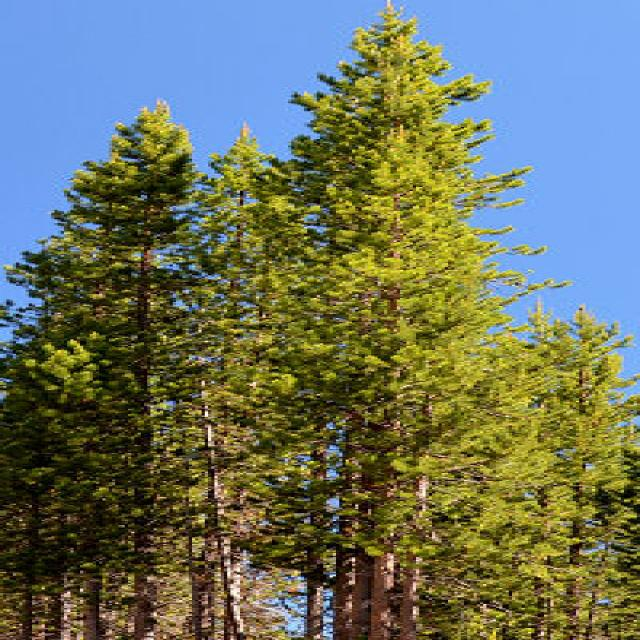Pinus contorta var: (186, 5, 546, 620)
